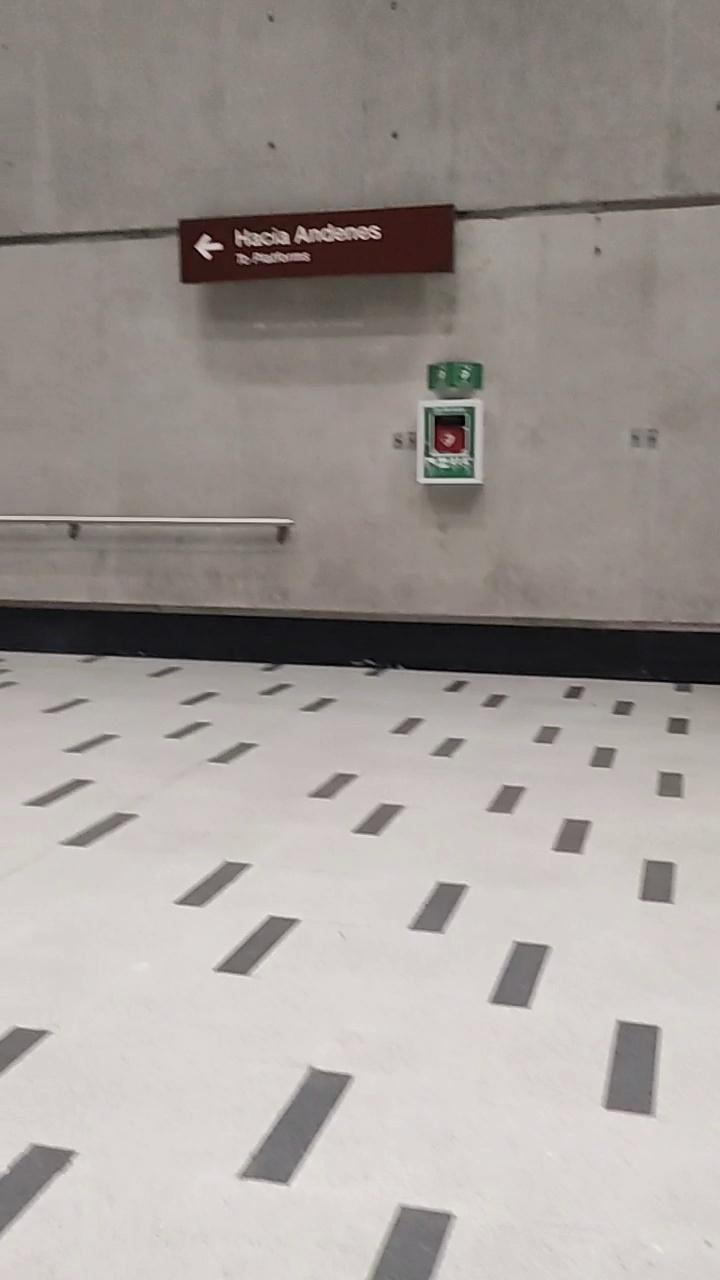left arrow: (190, 228, 231, 266)
